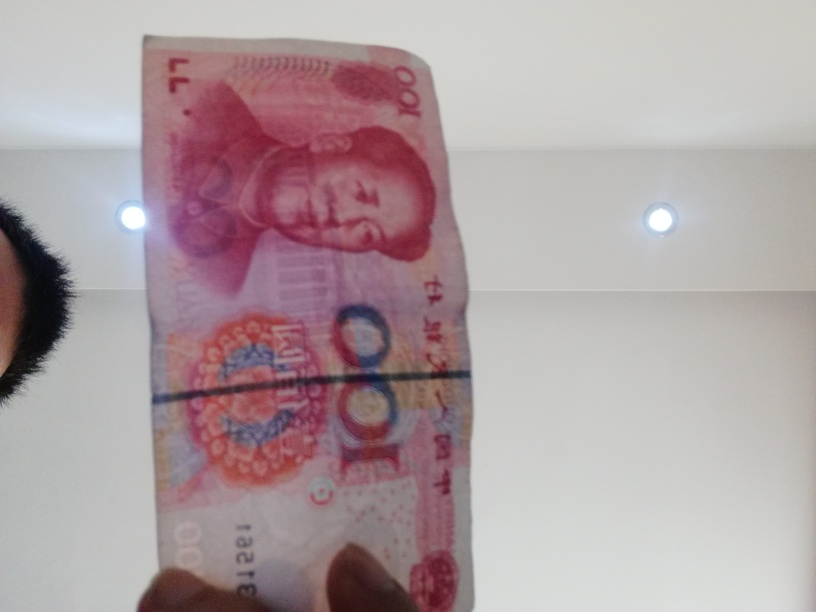rmb: (138, 31, 482, 612)
